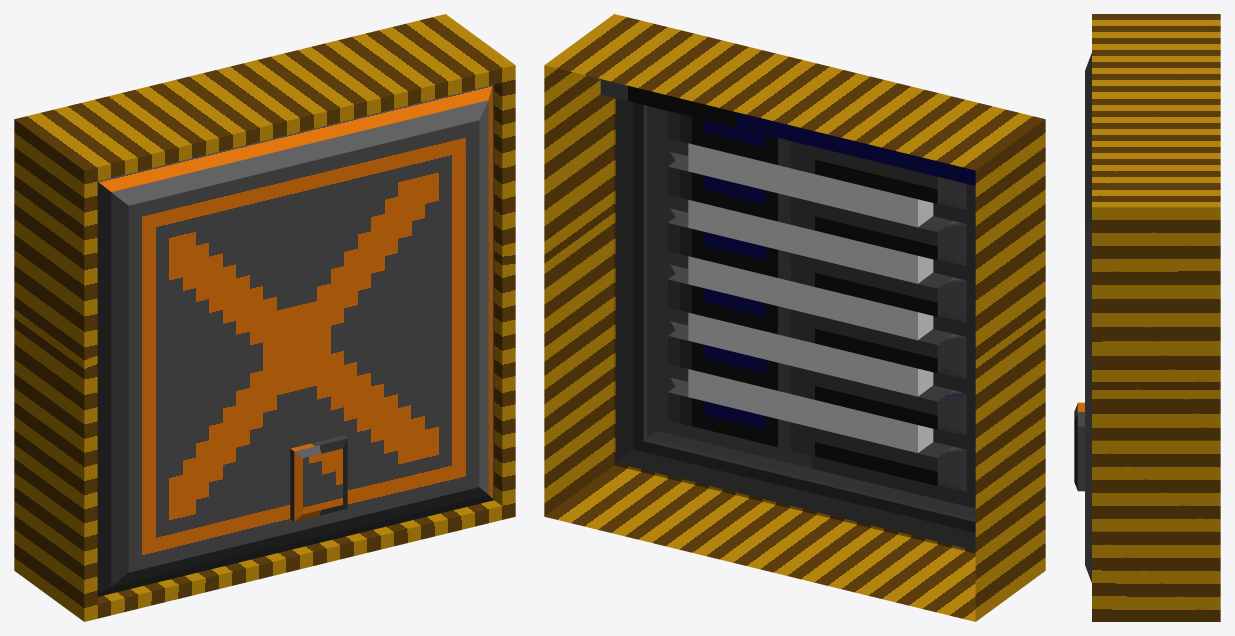
File: puzzlepanel3.fbx
3 views of the same model, side by side, from view 1: azimuth 30°, elevation 25°; view 2: azimuth 150°, elevation 25°; view 3: azimuth 270°, elevation 25° (orthographic). The views are drawn at different scales.
Visible parts, largest first — view 1: relay_panel_cover, relay_panel_base; view 2: relay_panel_base, chipset_mesh, relay_panel_cover; view 3: relay_panel_base, relay_panel_cover.
Boxes of the visible parts, <box> form: relay_panel_cover: <box>97,84,494,596</box>; relay_panel_base: <box>14,14,515,621</box>; relay_panel_base: <box>544,14,1045,621</box>; chipset_mesh: <box>688,143,933,452</box>; relay_panel_cover: <box>633,103,975,532</box>; relay_panel_base: <box>1092,14,1220,621</box>; relay_panel_cover: <box>1074,53,1091,582</box>.
Bounding box in the file's own units: 64 × 64 × 20.5.
